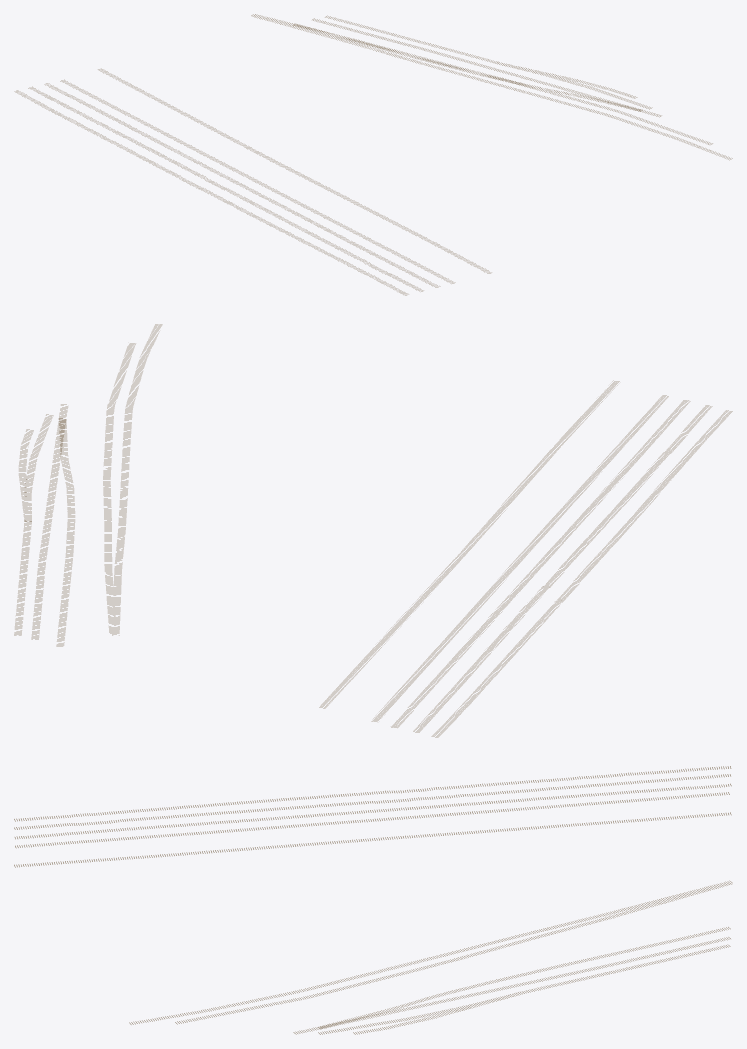
The model's file is c_1631_17825_rail_sleeper.glb.
3 views of the same model, one above another, from view 1: azimuth 30°, elevation 25°; view 2: azimuth 150°, elevation 25°; view 3: azimuth 270°, elevation 25° (orthographic). The views are drawn at different scales.
Parts seen in each view (by area): view 1: geometry_0; view 2: geometry_0; view 3: geometry_0.
Boxes of the visible parts, box(x1,y1,x2,y2) form: geometry_0: box(14, 14, 732, 295); geometry_0: box(14, 324, 732, 737); geometry_0: box(14, 766, 732, 1034).
Size of the model in its own units: 225 by 9.58 by 257.
